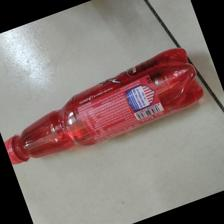Sting: (1, 47, 205, 167)
